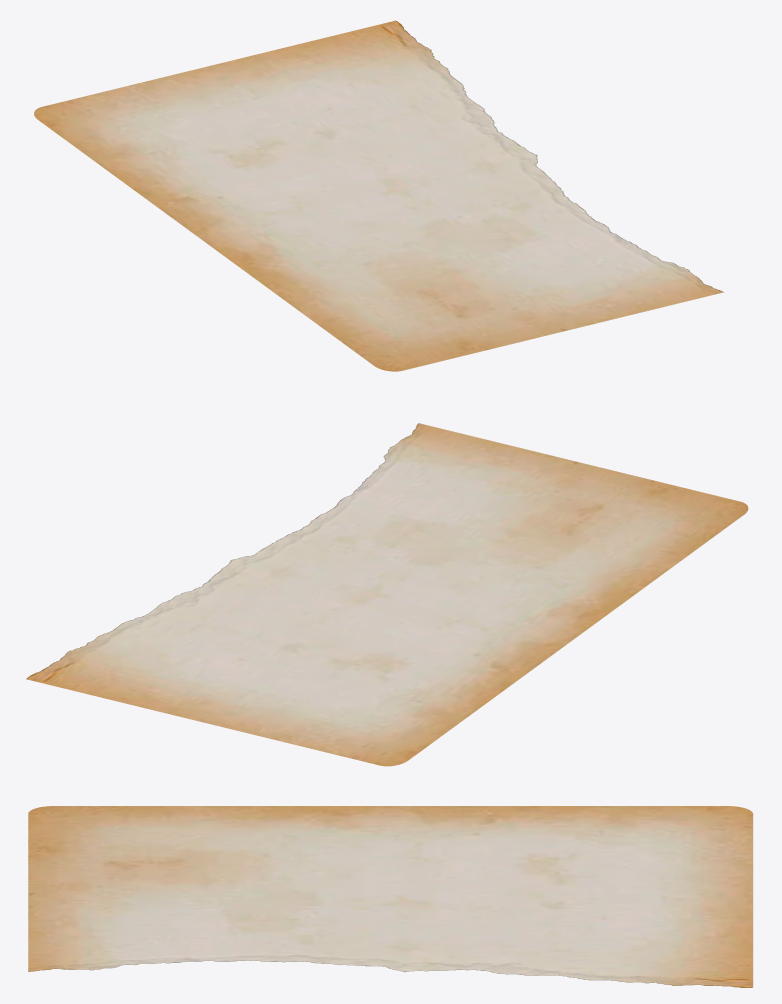
Rendered from Pickup_Page.fbx.
3 renders of one model, top to bottom at view 1: azimuth 30°, elevation 25°; view 2: azimuth 150°, elevation 25°; view 3: azimuth 270°, elevation 25°, orthographic.
Visible parts, largest first — view 1: pPlane2; view 2: pPlane2; view 3: pPlane2.
Part boxes in pixels (x1,y1,x2,y2): pPlane2: (34,20,723,371); pPlane2: (26,423,748,766); pPlane2: (28,806,753,987).
Size of the model in its own units: 0.6206 by 0 by 1.06.
1 material, 1 textured.
